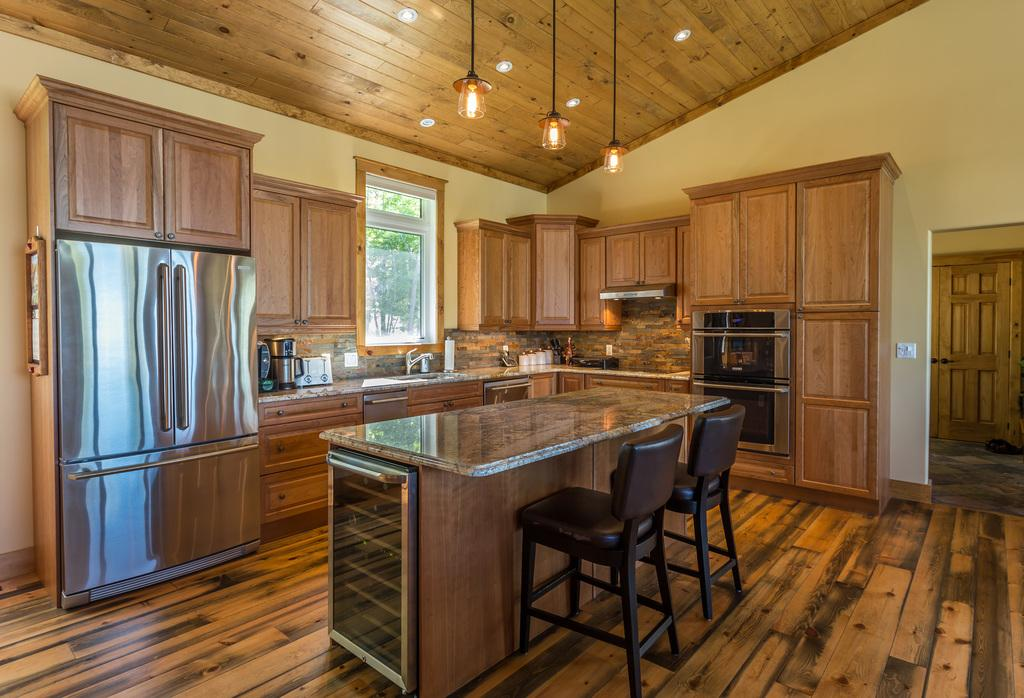cabinet_door: (49, 99, 156, 228), (163, 136, 243, 241), (804, 188, 870, 307), (302, 202, 354, 322), (254, 189, 300, 313), (806, 408, 872, 494), (804, 319, 868, 405), (740, 193, 790, 295), (684, 204, 734, 298), (532, 225, 574, 317), (268, 473, 330, 509), (479, 228, 505, 313), (269, 425, 331, 460), (643, 225, 676, 287), (269, 398, 359, 420), (506, 237, 530, 318), (578, 236, 600, 322), (610, 236, 636, 284)
handle: (140, 260, 175, 434), (82, 447, 252, 473), (171, 271, 196, 429), (698, 375, 792, 405), (329, 451, 396, 488), (700, 319, 798, 343), (362, 392, 404, 409)
